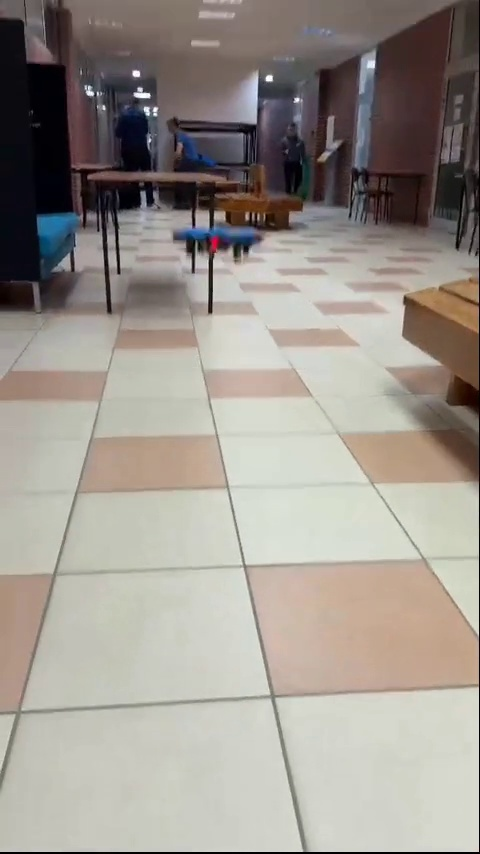drone: (176, 228, 261, 258)
no vest: (167, 115, 221, 204), (119, 90, 156, 210), (282, 114, 309, 210)
